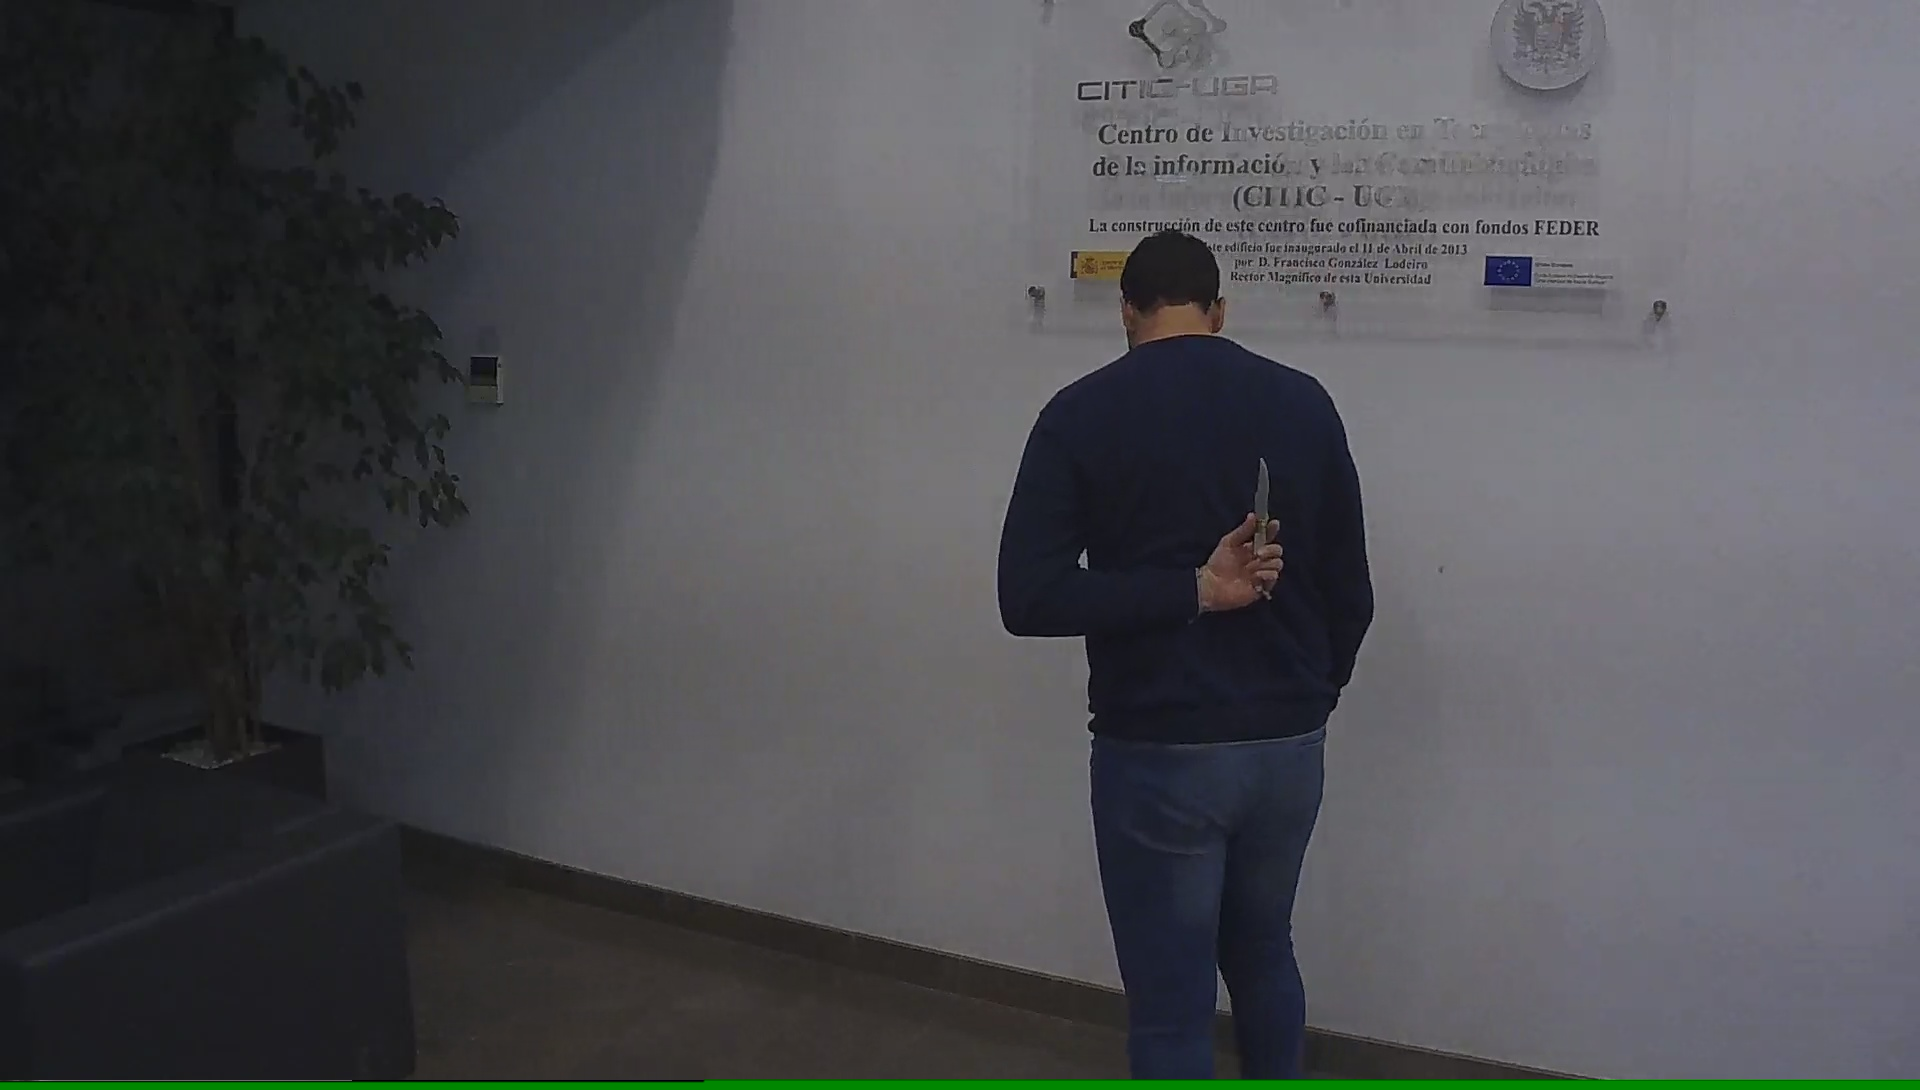knife: (1238, 447, 1290, 605)
